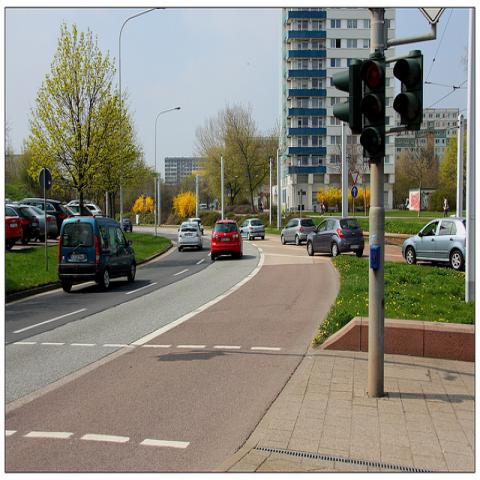car: (57, 215, 137, 293), (2, 201, 132, 244), (402, 216, 467, 270), (307, 217, 364, 258), (17, 198, 76, 236), (209, 218, 244, 260), (19, 205, 58, 242), (280, 218, 317, 246), (4, 206, 22, 250), (177, 221, 203, 251), (63, 200, 103, 218), (238, 219, 266, 242), (187, 218, 204, 232)
